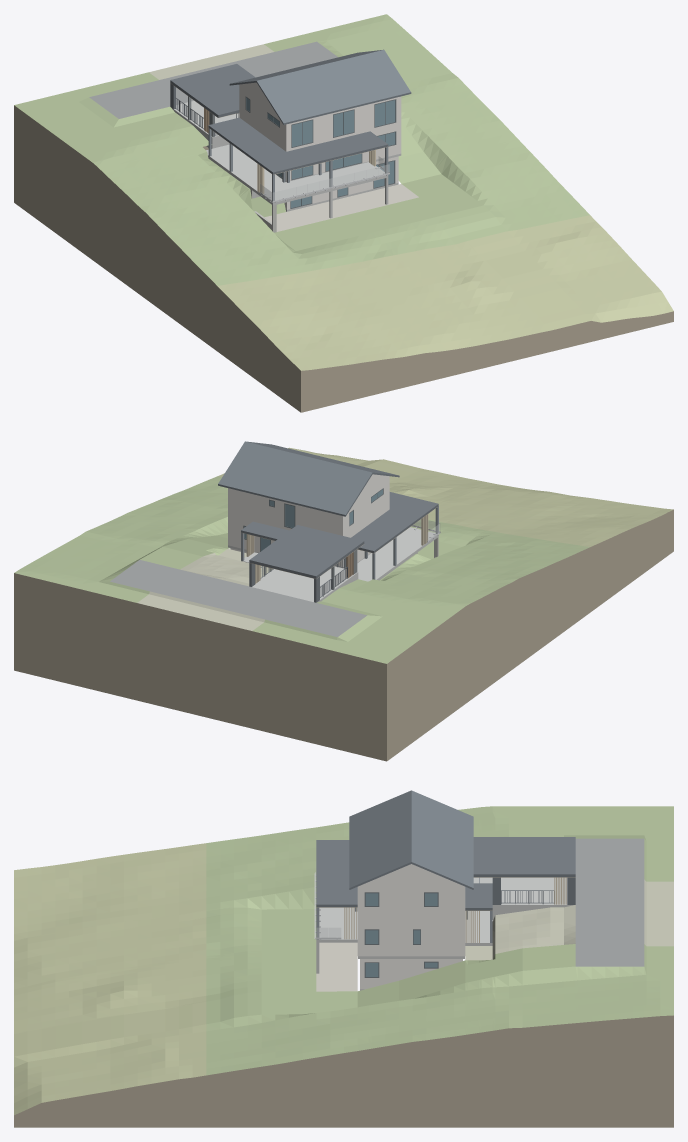
The model's file is Schaffernak_Haus_B.glb.
3 renders of one model, top to bottom at view 1: azimuth 30°, elevation 25°; view 2: azimuth 150°, elevation 25°; view 3: azimuth 270°, elevation 25°, orthographic. The views are drawn at different scales.
Visible parts, largest first — view 1: Foto_Gelaende_Rasen_Boeschung, Foto_Gelaende_Hang_unten, Foto_Gelaende_Modellrand, Satteldach_0, Strasse_parallel_zum_Haus_schematisch, Foto_Gelaende_Kies_Kellerbereich, Entwurf_Dach_vorne, Carport_Dach, Balkon_vorne, Foto_Gelaende_Seitliche_Gruenflaeche, Entwurf_Dach_links, Foto_Gelaende_Rueckseite (+3 smaller); view 2: Foto_Gelaende_Modellrand, Foto_Gelaende_Rasen_Boeschung, Foto_Gelaende_Hang_unten, Strasse_parallel_zum_Haus_schematisch, Satteldach_1, Foto_Gelaende_Rueckseite, Carport_Dach, Foto_Gelaende_Seitliche_Gruenflaeche, Carport_Boden, Entwurf_Dach_links, Balkon_links, OG_back_Wand0 (+5 smaller); view 3: Foto_Gelaende_Rasen_Boeschung, Foto_Gelaende_Modellrand, Foto_Gelaende_Hang_unten, Strasse_parallel_zum_Haus_schematisch, Foto_Gelaende_Rueckseite, Foto_Gelaende_Seitliche_Gruenflaeche, Satteldach_0, Satteldach_1, Carport_Dach, Entwurf_Dach_vorne, Foto_Gelaende_Kies_Kellerbereich, Carport_Boden (+9 smaller).
Part boxes in pixels (x1,y1,x2,y2): Foto_Gelaende_Rasen_Boeschung: (14, 14, 589, 285); Foto_Gelaende_Hang_unten: (217, 215, 673, 370); Foto_Gelaende_Modellrand: (14, 105, 673, 412); Satteldach_0: (256, 50, 411, 124); Strasse_parallel_zum_Haus_schematisch: (89, 41, 337, 118); Foto_Gelaende_Kies_Kellerbereich: (265, 184, 418, 231); Entwurf_Dach_vorne: (255, 131, 388, 174); Carport_Dach: (171, 64, 254, 114); Balkon_vorne: (255, 162, 388, 205); Foto_Gelaende_Seitliche_Gruenflaeche: (264, 34, 440, 183); Entwurf_Dach_links: (208, 117, 285, 160); Foto_Gelaende_Rueckseite: (149, 44, 273, 79); Foto_Gelaende_Modellrand: (14, 509, 673, 761); Foto_Gelaende_Rasen_Boeschung: (14, 476, 589, 663); Foto_Gelaende_Hang_unten: (218, 447, 673, 546); Strasse_parallel_zum_Haus_schematisch: (110, 560, 366, 636); Satteldach_1: (218, 441, 372, 516); Foto_Gelaende_Rueckseite: (137, 549, 272, 630); Carport_Dach: (250, 525, 363, 575); Foto_Gelaende_Seitliche_Gruenflaeche: (97, 533, 229, 602); Carport_Boden: (252, 569, 352, 602); Entwurf_Dach_links: (351, 509, 420, 552); Balkon_links: (357, 540, 420, 580); OG_back_Wand0: (295, 504, 345, 535); Foto_Gelaende_Rasen_Boeschung: (206, 806, 673, 1075); Foto_Gelaende_Modellrand: (14, 1015, 673, 1127); Foto_Gelaende_Hang_unten: (14, 843, 206, 1115); Strasse_parallel_zum_Haus_schematisch: (575, 838, 644, 966); Foto_Gelaende_Rueckseite: (465, 879, 673, 960); Foto_Gelaende_Seitliche_Gruenflaeche: (357, 944, 673, 1007); Satteldach_0: (349, 790, 411, 889); Satteldach_1: (411, 790, 473, 889); Carport_Dach: (473, 837, 575, 874); Entwurf_Dach_vorne: (316, 840, 357, 907); Foto_Gelaende_Kies_Kellerbereich: (316, 942, 357, 991); Carport_Boden: (492, 877, 573, 906).
Bounding box in the file's own units: 36 × 16.06 × 48.
